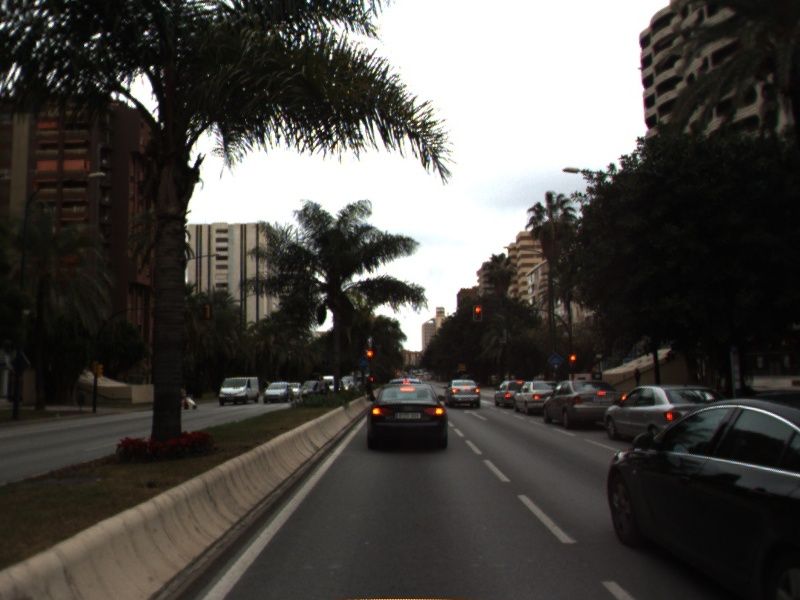STRAIGHT: (462, 407, 489, 422)
